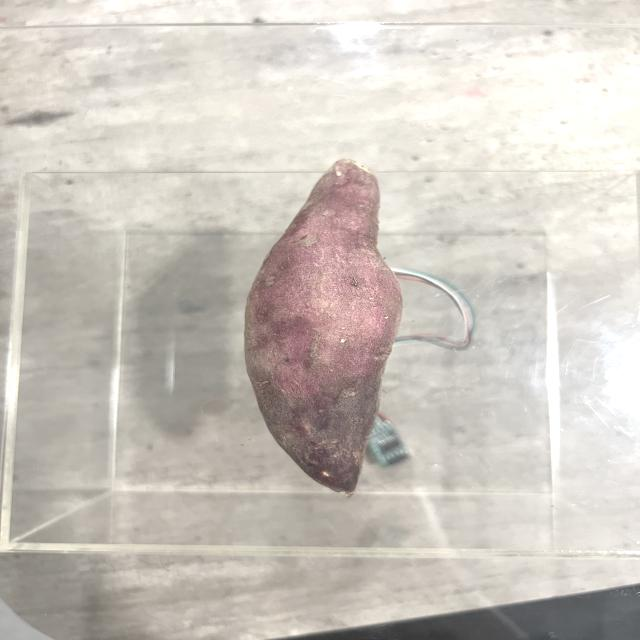sweet potato: (238, 151, 386, 496)
